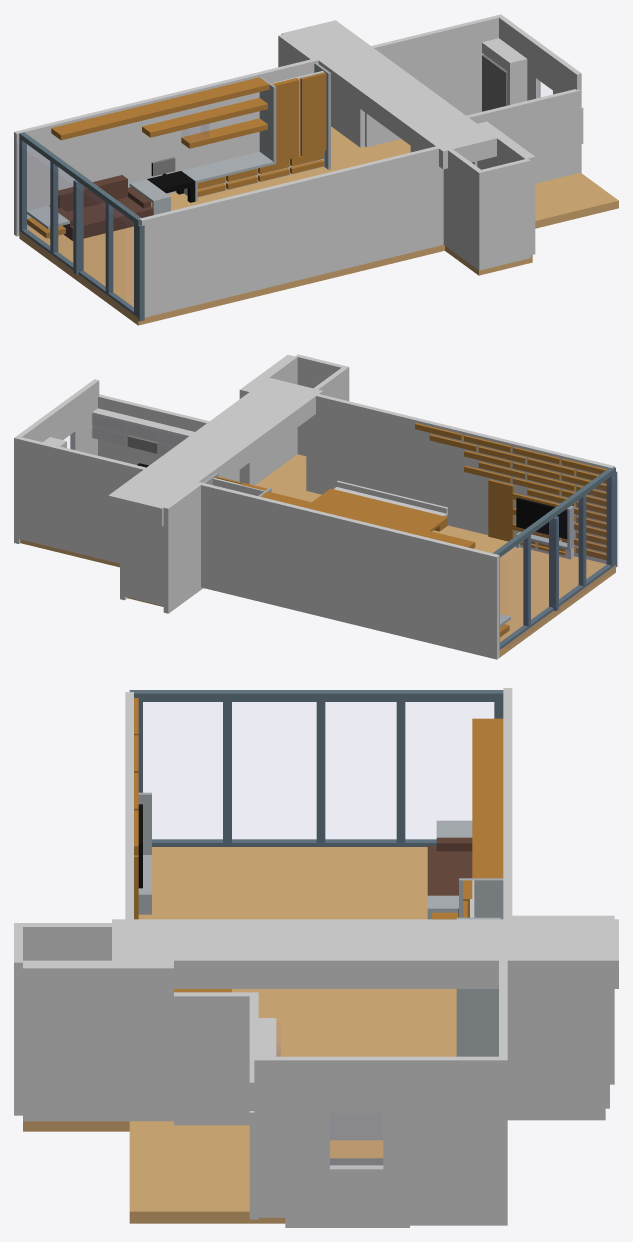
File: casamoderna.gltf
3 renders of one model, top to bottom at view 1: azimuth 30°, elevation 25°; view 2: azimuth 150°, elevation 25°; view 3: azimuth 270°, elevation 25°, orthographic. The views are drawn at different scales.
Visible parts, largest first — view 1: node_MeshObject1590890240-PolyPaper21; view 2: node_MeshObject1590890240-PolyPaper21; view 3: node_MeshObject1590890240-PolyPaper21.
Boxes of the visible parts, x1,y1,x2,y2 form: node_MeshObject1590890240-PolyPaper21: (14, 14, 618, 325); node_MeshObject1590890240-PolyPaper21: (14, 354, 617, 659); node_MeshObject1590890240-PolyPaper21: (14, 688, 618, 1227).
Size of the model in its own units: 2 by 0.4201 by 1.36.
